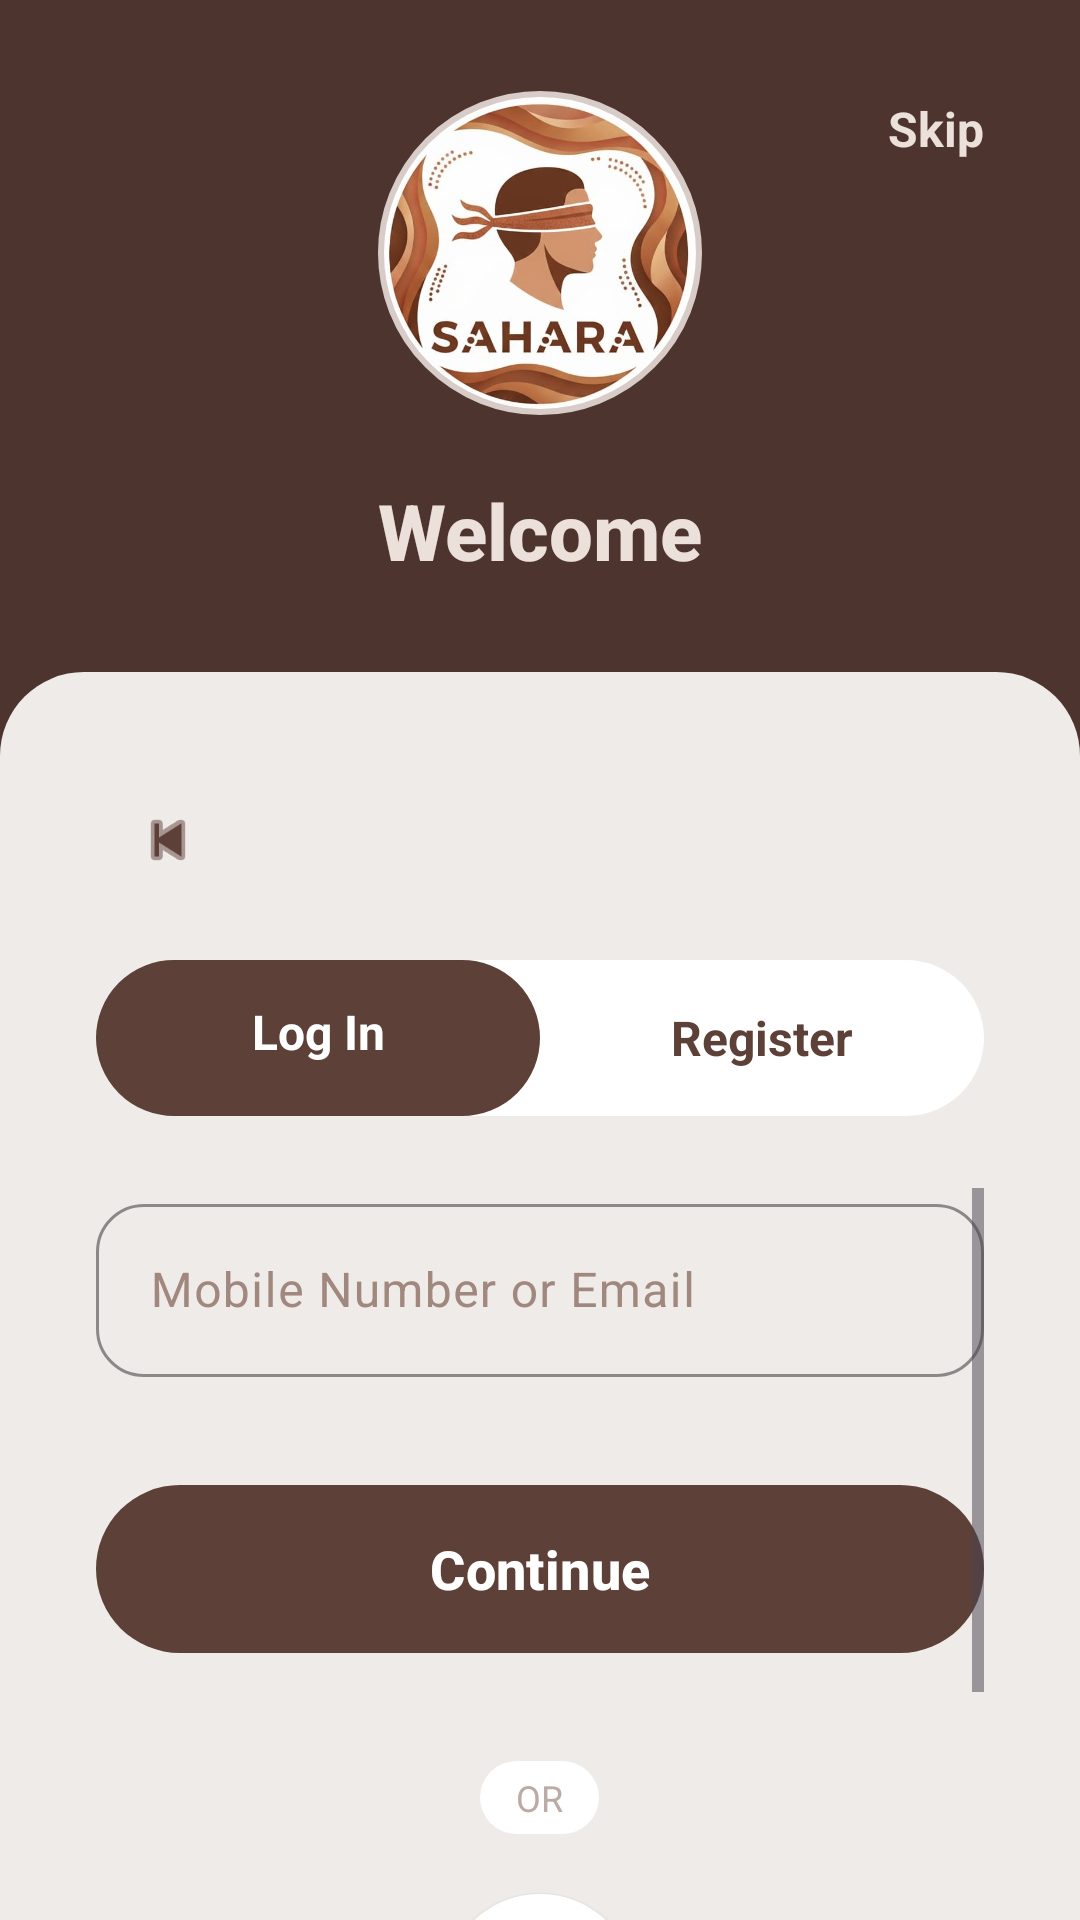

Icons on this 1080px x 1920px Android screen, each with the point to tap as (x,y):
previous: (168,840)
